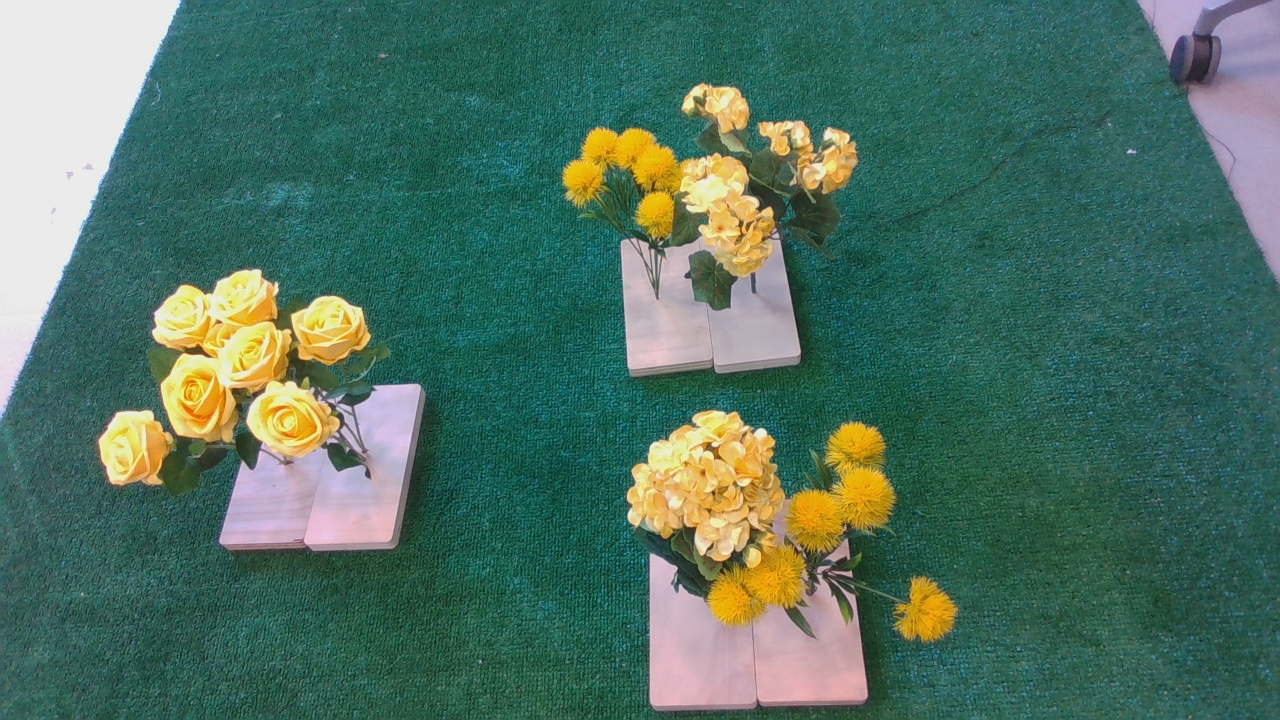dandelion: (791, 416, 973, 655), (566, 112, 683, 290)
geranium: (684, 78, 873, 303), (619, 410, 785, 566)
rose: (222, 266, 388, 474), (97, 285, 233, 511)
